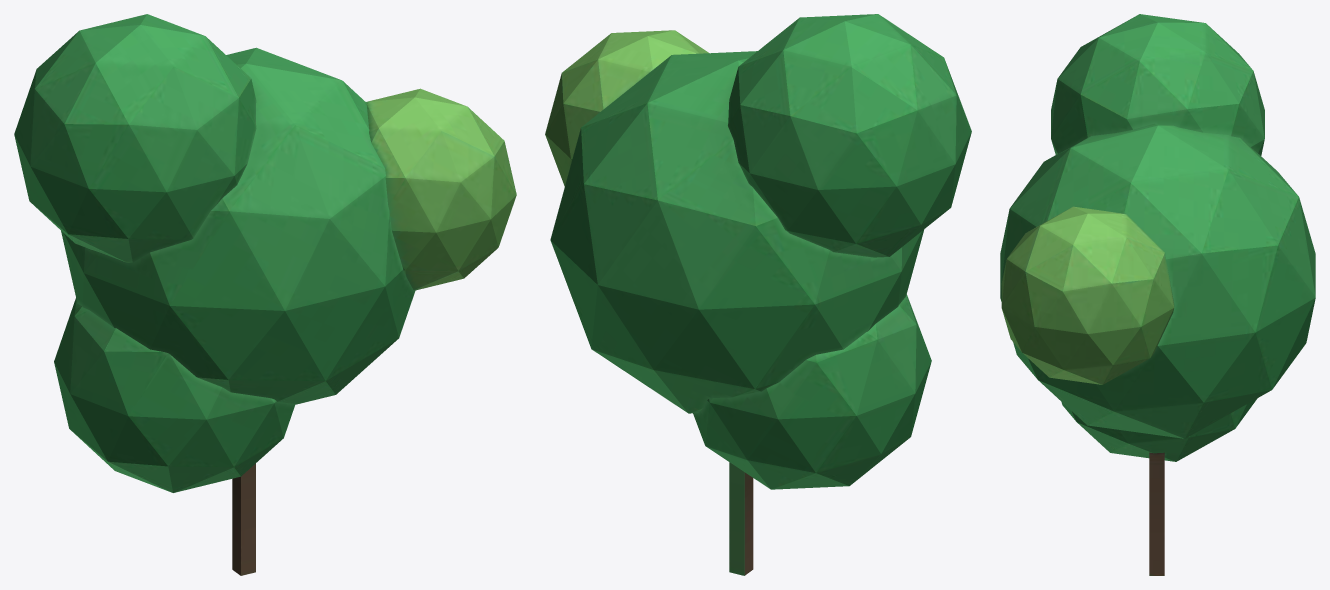
File: Tree_poly05.gltf
The picture shows the model from 3 angles, left to right: view 1: azimuth 30°, elevation 25°; view 2: azimuth 150°, elevation 25°; view 3: azimuth 270°, elevation 25°; orthographic projection. The views are drawn at different scales.
Parts seen in each view (by area): view 1: metalTree_poly05; view 2: metalTree_poly05; view 3: metalTree_poly05.
Part boxes in pixels (x1,y1,x2,y2): metalTree_poly05: (14,14,516,575); metalTree_poly05: (545,14,971,575); metalTree_poly05: (1000,14,1315,575).
Size of the model in its own units: 69.03 by 86.84 by 49.13.
Materials: 1 (1 with a texture image).
